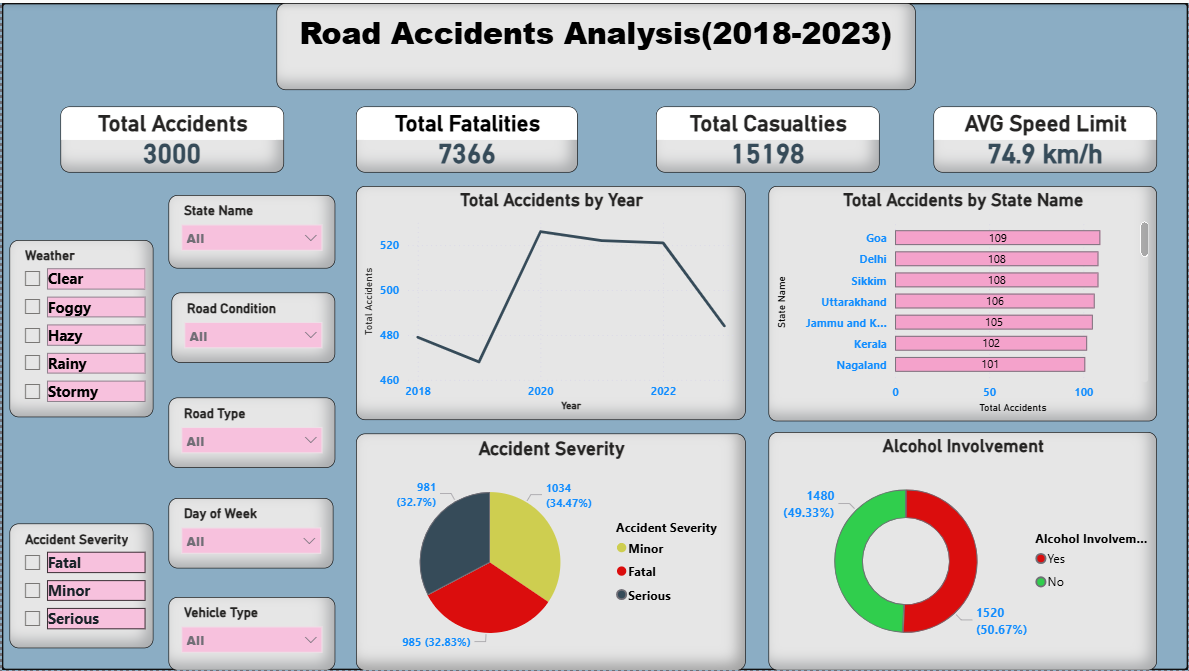

Layout of this report page (visuals, bound fields, positions):
{"tool":"powerbi","page":{"name":"Dashboard","canvas":[1280,720],"ordinal":0},"visuals":[{"type":"textbox","box":[296.3,0,689.8,93.9],"z":0},{"type":"card","title":"Total Accidents","fields":{"Values":["accident(18-23).Total Accidents"]},"box":[63.1,111.7,241.3,71.2],"z":1000},{"type":"card","title":"Total Fatalities","fields":{"Values":["accident(18-23).Total Fatalities"]},"box":[382.1,111.7,239.6,71.2],"z":2000},{"type":"card","title":"Total Casualties","fields":{"Values":["accident(18-23).Total Casualties"]},"box":[706,111.7,241.3,71.2],"z":3000},{"type":"card","title":"AVG Speed Limit","fields":{"Values":["accident(18-23).AVG Speed limit"]},"box":[1005.5,111.7,241.3,71.2],"z":4000},{"type":"slicer","fields":{"Values":["accident(18-23).Weather Conditions"]},"box":[8.1,255.8,155.4,191.1],"z":5000},{"type":"slicer","fields":{"Values":["accident(18-23).State Name"]},"box":[179.7,197.5,179.7,79.3],"z":6000},{"type":"slicer","fields":{"Values":["accident(18-23).Accident Severity"]},"box":[8.1,561.9,155.4,134.4],"z":7000},{"type":"slicer","fields":{"Values":["accident(18-23).Vehicle Type Involved"]},"box":[179.7,641.2,179.7,79.3],"z":8000},{"type":"lineChart","fields":{"Category":["accident(18-23).Year"],"Y":["accident(18-23).Total Accidents"]},"box":[382.1,197.5,421,252.6],"z":9000},{"type":"barChart","fields":{"Y":["accident(18-23).Total Accidents"],"Category":["accident(18-23).State Name"]},"box":[827.4,197.5,419.4,254.2],"z":10000},{"type":"pieChart","title":"Accident Severity","fields":{"Y":["CountNonNull(accident(18-23).Accident Severity)"],"Category":["accident(18-23).Accident Severity"]},"box":[382.1,464.7,421,255.8],"z":11000},{"type":"donutChart","title":"Alcohol Involvement ","fields":{"Category":["accident(18-23).Alcohol Involvement"],"Y":["CountNonNull(accident(18-23).Alcohol Involvement)"]},"box":[827.4,463.1,419.4,257.5],"z":12000},{"type":"slicer","fields":{"Values":["accident(18-23).Day of Week"]},"box":[179.7,534.3,178.1,76.1],"z":13000},{"type":"slicer","fields":{"Values":["accident(18-23).Road Condition"]},"box":[183,312.5,176.5,76.1],"z":14000},{"type":"slicer","fields":{"Values":["accident(18-23).Road Type"]},"box":[179.7,425.9,179.7,76.1],"z":15000}]}

Visuals, with their boxes in screenshot pixels (x1, y1, x2, y2), scaled from the page's 1280x720 canvas onto the 1189x671 screenshot:
textbox: bbox=[275, 0, 916, 88]
"Total Accidents" card: bbox=[59, 104, 283, 170]
"Total Fatalities" card: bbox=[355, 104, 578, 170]
"Total Casualties" card: bbox=[656, 104, 880, 170]
"AVG Speed Limit" card: bbox=[934, 104, 1158, 170]
slicer - accident(18-23).Weather Conditions: bbox=[8, 238, 152, 416]
slicer - accident(18-23).State Name: bbox=[167, 184, 334, 258]
slicer - accident(18-23).Accident Severity: bbox=[8, 524, 152, 649]
slicer - accident(18-23).Vehicle Type Involved: bbox=[167, 598, 334, 670]
lineChart - accident(18-23).Year x accident(18-23).Total Accidents: bbox=[355, 184, 746, 419]
barChart - accident(18-23).Total Accidents x accident(18-23).State Name: bbox=[769, 184, 1158, 421]
"Accident Severity" pieChart: bbox=[355, 433, 746, 670]
"Alcohol Involvement " donutChart: bbox=[769, 432, 1158, 670]
slicer - accident(18-23).Day of Week: bbox=[167, 498, 332, 569]
slicer - accident(18-23).Road Condition: bbox=[170, 291, 334, 362]
slicer - accident(18-23).Road Type: bbox=[167, 397, 334, 468]
